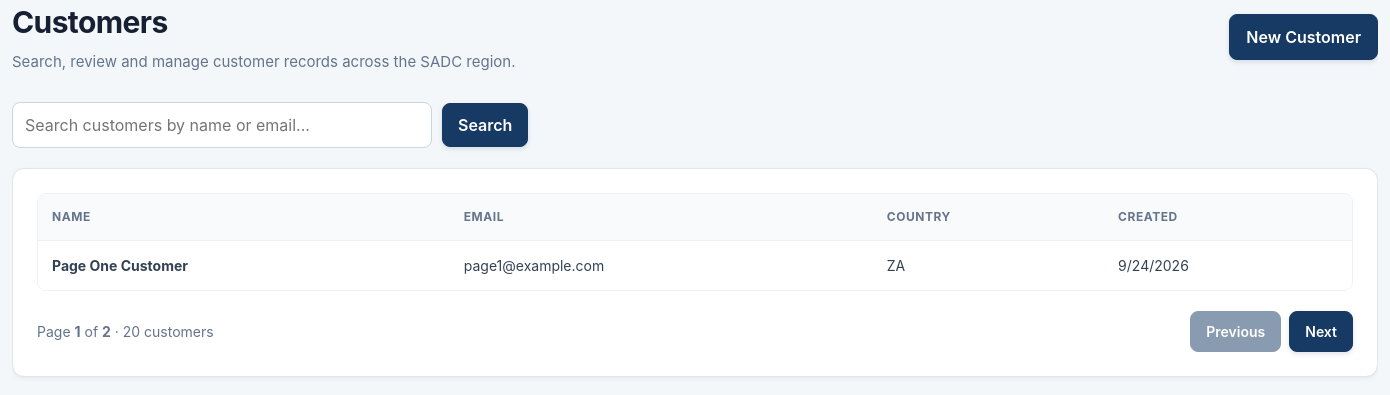
CustomersPage › loads the next page of customers
Expected: the text "Page One Customer" is shown, [52, 256, 188, 274]
Click the button "Next" at point(1321, 331), box [1289, 310, 1353, 352]
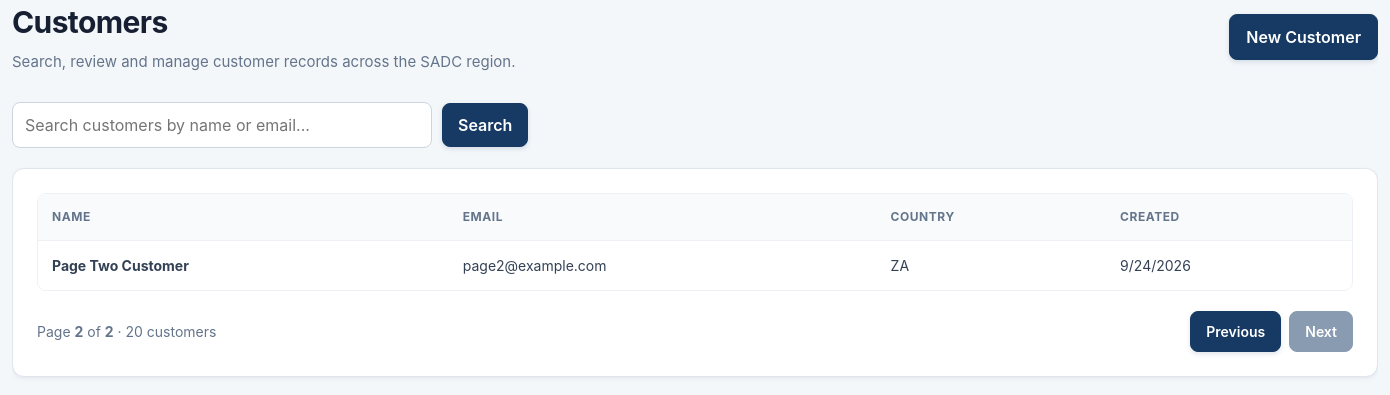
Now the text "Page Two Customer" is shown, box [52, 256, 189, 274]
